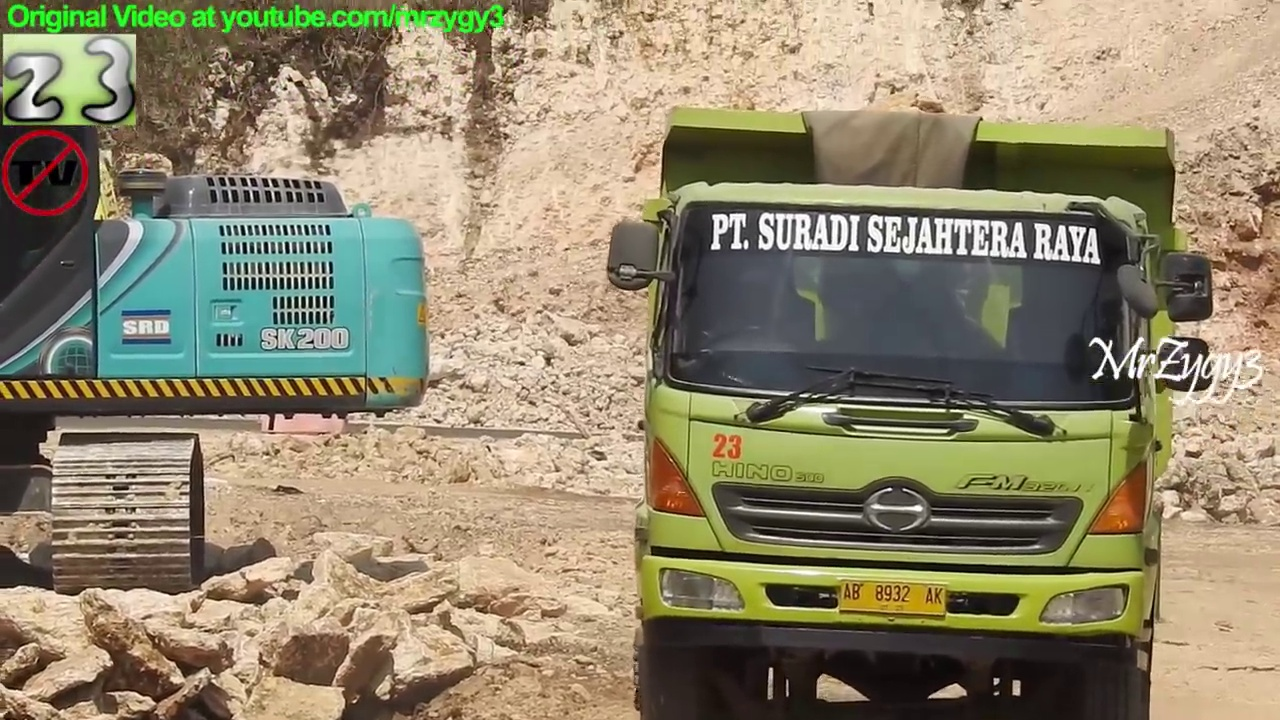excavator: (1, 1, 440, 600)
truck: (602, 98, 1221, 720)
